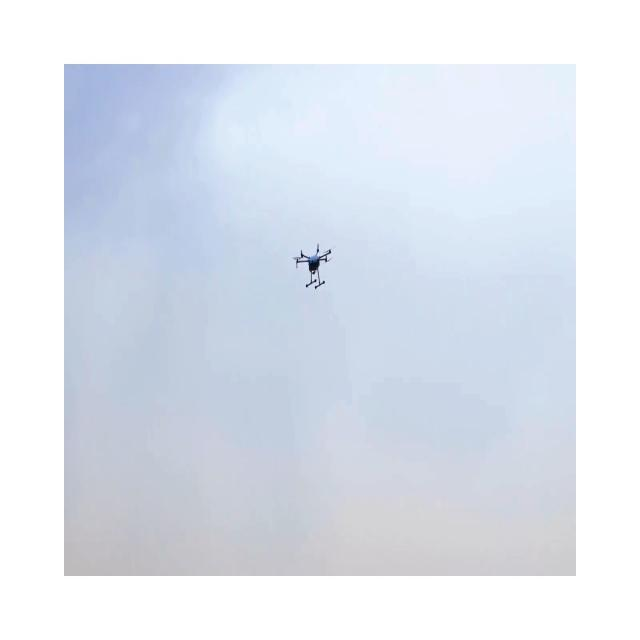drone: (292, 242, 332, 290)
